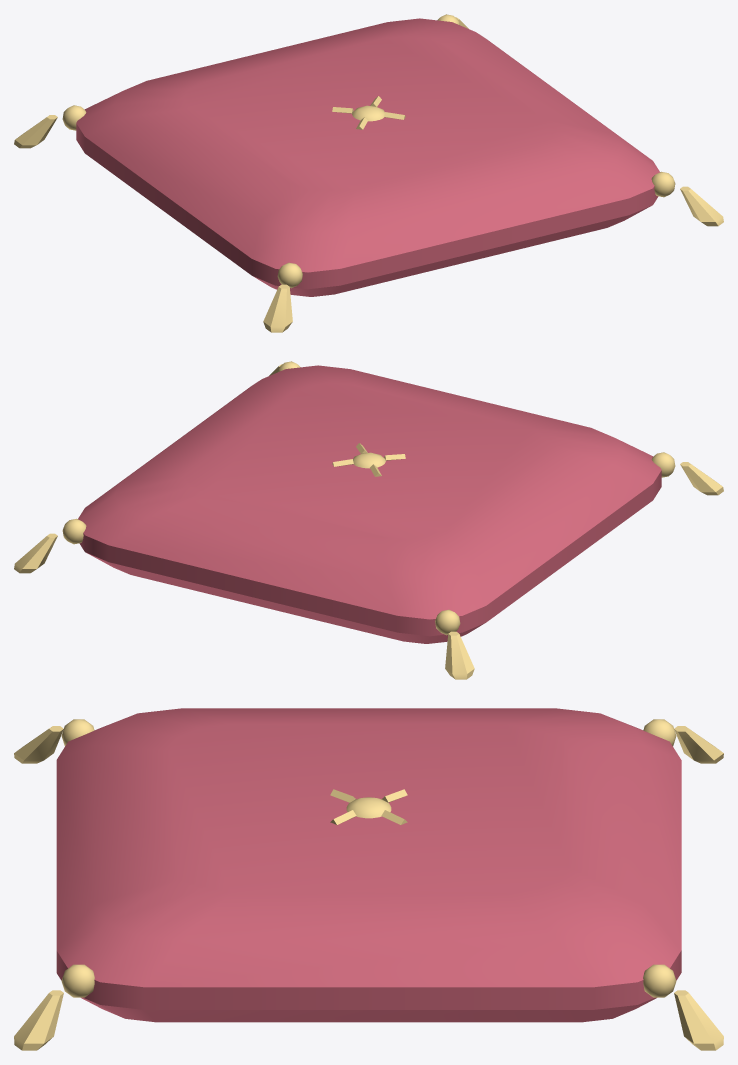
File: furn_zabuton.glb
3 renders of one model, top to bottom at view 1: azimuth 30°, elevation 25°; view 2: azimuth 150°, elevation 25°; view 3: azimuth 270°, elevation 25°, orthographic. The views are drawn at different scales.
Visible parts, largest first — view 1: furn_zabuton_body; view 2: furn_zabuton_body; view 3: furn_zabuton_body.
Part boxes in pixels (x1=…): furn_zabuton_body: x1=14, y1=14, x2=723, y2=332; furn_zabuton_body: x1=14, y1=361, x2=723, y2=679; furn_zabuton_body: x1=14, y1=708, x2=723, y2=1050.
Size of the model in its own units: 0.564 by 0.093 by 0.568.
